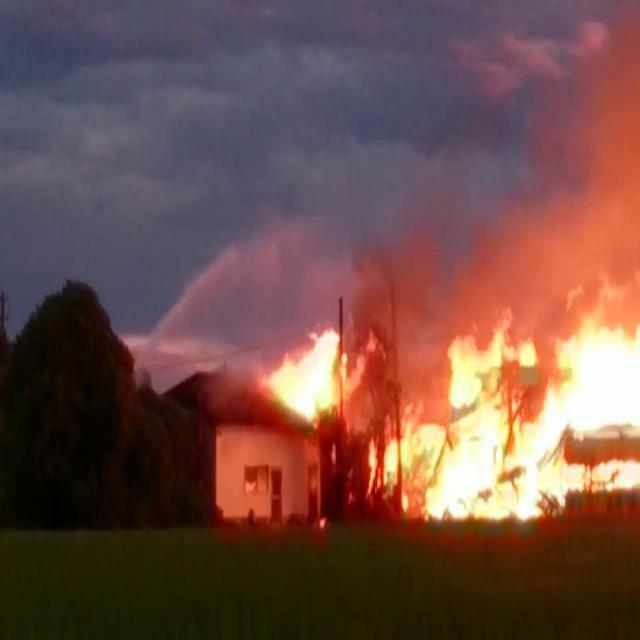Fire: (365, 281, 638, 523), (268, 319, 368, 419)
